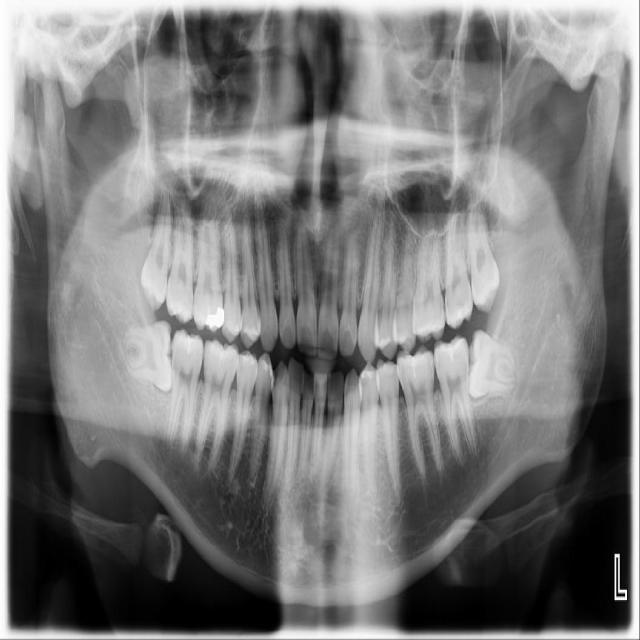3M ESPE Implant: (138, 181, 176, 313)
52: (192, 280, 225, 334)
73: (590, 536, 592, 546)
BioHorizons Implant: (444, 191, 473, 330)
BioLife Implant: (463, 188, 503, 316)
Biomet 3i Implant: (461, 326, 518, 399)
Blue Sky Bio Implant: (431, 332, 478, 465)
Caries: (164, 183, 195, 324)
Implant: (166, 328, 205, 454)
Keystone Dental Implant: (121, 319, 177, 395)
